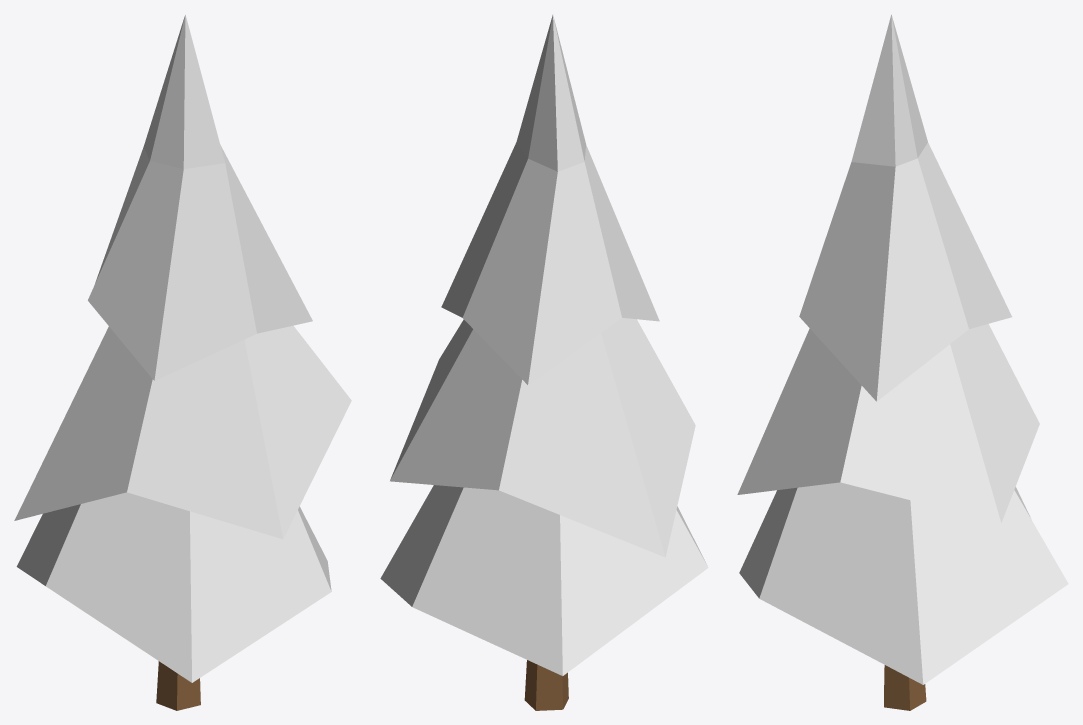
The model's file is Pine_Tree_s_Snow_BT_02.fbx.
3 renders of one model, left to right at view 1: azimuth 30°, elevation 25°; view 2: azimuth 150°, elevation 25°; view 3: azimuth 270°, elevation 25°, orthographic.
Parts seen in each view (by area): view 1: Pine_Tree_s_Snow_BT_02; view 2: Pine_Tree_s_Snow_BT_02; view 3: Pine_Tree_s_Snow_BT_02.
Boxes of the visible parts, x1,y1,x2,y2 form: Pine_Tree_s_Snow_BT_02: (14, 14, 351, 710); Pine_Tree_s_Snow_BT_02: (380, 15, 708, 710); Pine_Tree_s_Snow_BT_02: (737, 14, 1068, 710).
Size of the model in its own units: 159 by 342 by 149.
